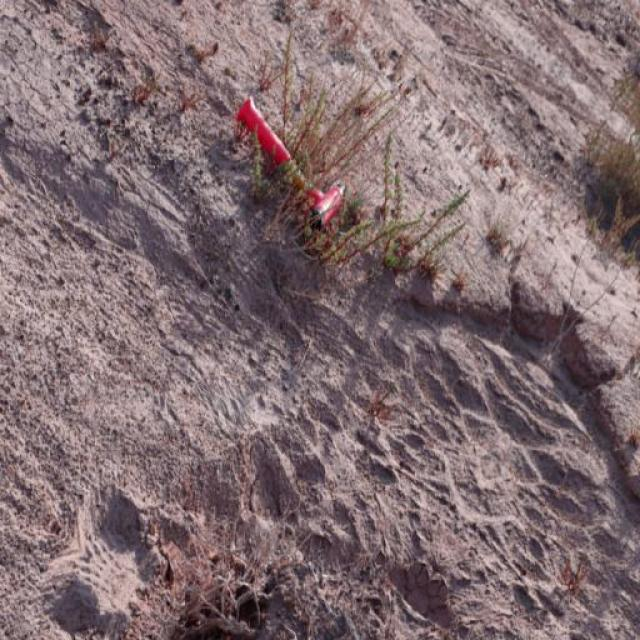mallet: (233, 95, 345, 229)
